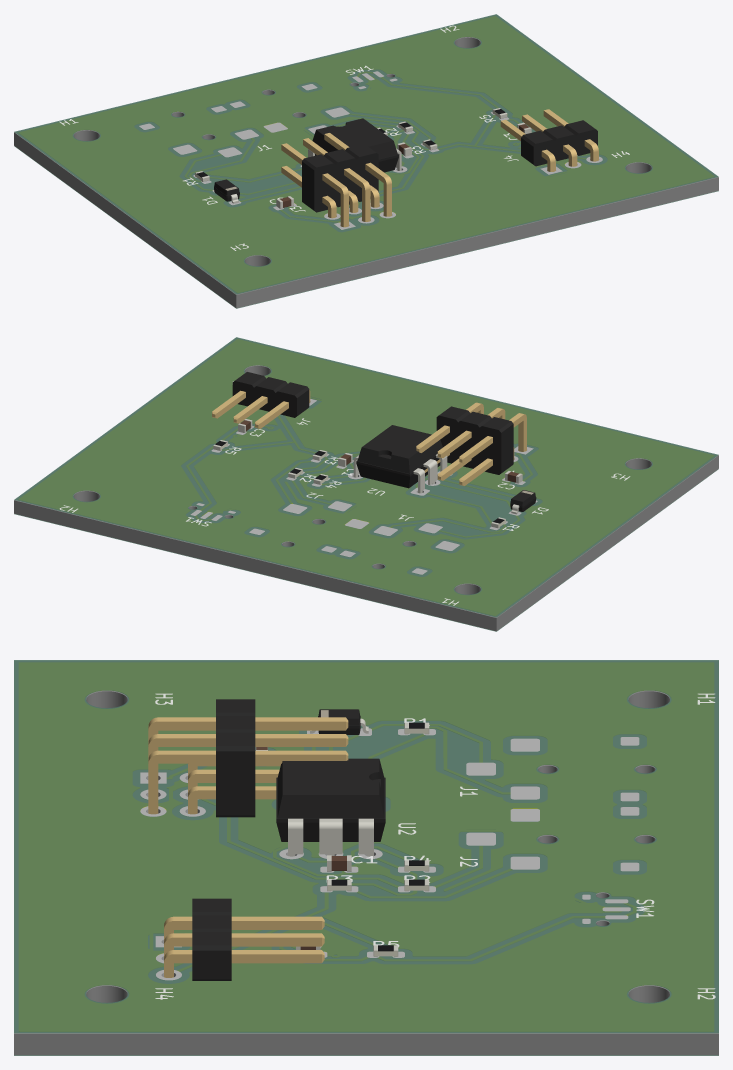
Rendered from pb2_midi.glb.
The picture shows the model from 3 angles, top to bottom: view 1: azimuth 30°, elevation 25°; view 2: azimuth 150°, elevation 25°; view 3: azimuth 270°, elevation 25°; orthographic projection. The views are drawn at different scales.
Visible parts, largest first — view 1: =>[0:1:1:12], =>[0:1:1:8], =>[0:1:1:13], J3, J4, =>[0:1:1:9], U2, =>[0:1:1:11]; view 2: =>[0:1:1:12], =>[0:1:1:8], =>[0:1:1:13], J3, U2, J4, =>[0:1:1:9], =>[0:1:1:11]; view 3: =>[0:1:1:12], =>[0:1:1:8], =>[0:1:1:13], J3, U2, J4, =>[0:1:1:9], =>[0:1:1:11], D1.
Boxes of the visible parts, bbox=[...] form: =>[0:1:1:12]: bbox=[14, 14, 718, 308]; =>[0:1:1:8]: bbox=[19, 16, 713, 292]; =>[0:1:1:13]: bbox=[14, 15, 718, 308]; J3: bbox=[281, 133, 391, 227]; J4: bbox=[500, 109, 598, 171]; =>[0:1:1:9]: bbox=[139, 71, 602, 229]; U2: bbox=[308, 118, 401, 172]; =>[0:1:1:11]: bbox=[59, 25, 629, 250]; =>[0:1:1:12]: bbox=[14, 337, 718, 631]; =>[0:1:1:8]: bbox=[19, 339, 713, 615]; =>[0:1:1:13]: bbox=[14, 338, 718, 631]; J3: bbox=[416, 402, 526, 485]; U2: bbox=[353, 425, 447, 493]; J4: bbox=[212, 372, 310, 428]; =>[0:1:1:9]: bbox=[190, 399, 537, 574]; =>[0:1:1:11]: bbox=[59, 381, 630, 605]; =>[0:1:1:12]: bbox=[14, 660, 718, 1055]; =>[0:1:1:8]: bbox=[19, 663, 713, 1031]; =>[0:1:1:13]: bbox=[14, 661, 718, 1055]; J3: bbox=[148, 699, 348, 817]; U2: bbox=[276, 758, 385, 856]; J4: bbox=[164, 898, 324, 980]; =>[0:1:1:9]: bbox=[140, 728, 639, 980]; =>[0:1:1:11]: bbox=[155, 693, 715, 999]; D1: bbox=[310, 709, 368, 734].
Bounding box in the file's own units: 0.057 × 0.00838 × 0.0455.
